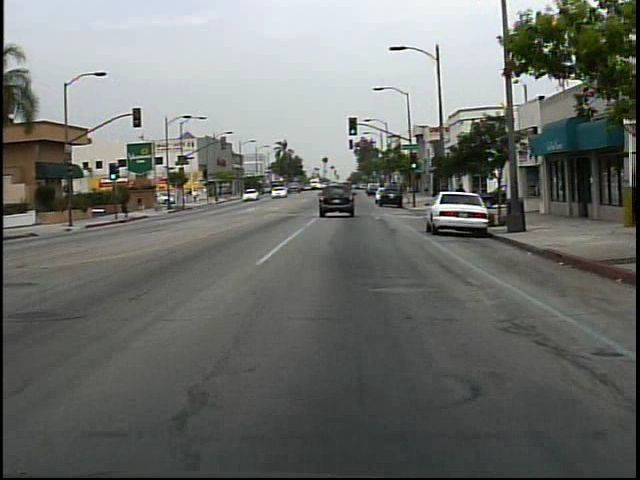person: (450, 179, 470, 217), (132, 191, 152, 220), (192, 188, 200, 206)
